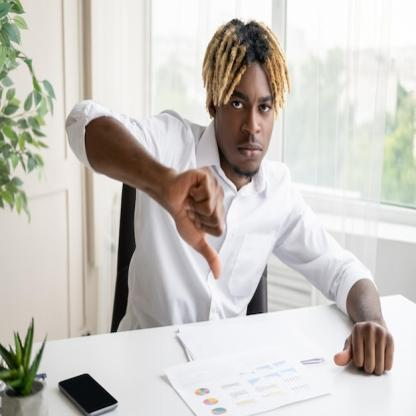thumb_down: (170, 162, 228, 282)
